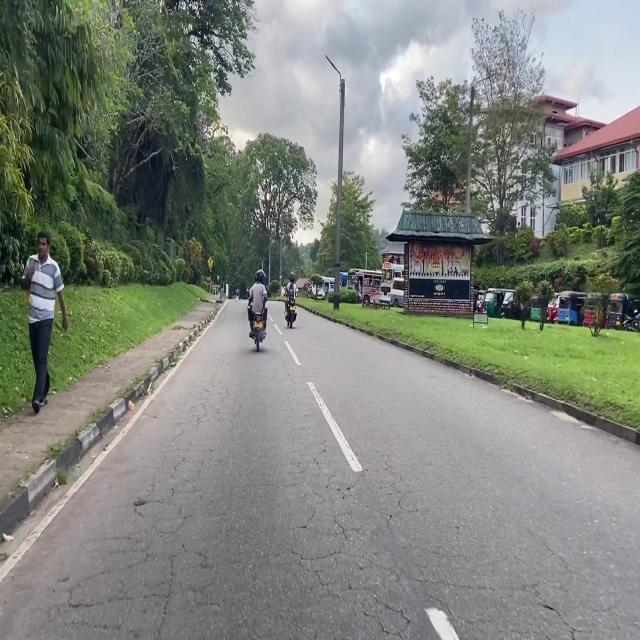bus: (349, 268, 381, 306), (379, 261, 404, 306), (318, 276, 334, 301), (530, 297, 539, 321), (340, 271, 349, 288)
motorcycle: (250, 313, 265, 351), (620, 310, 640, 332), (285, 297, 297, 328)
person: (22, 231, 68, 414), (248, 270, 267, 331), (285, 273, 297, 313)
three wheeler: (606, 293, 640, 328), (558, 291, 585, 325), (583, 292, 608, 327), (484, 289, 505, 318), (502, 290, 519, 319), (547, 293, 560, 323), (475, 292, 486, 314)
van: (390, 278, 403, 306)
